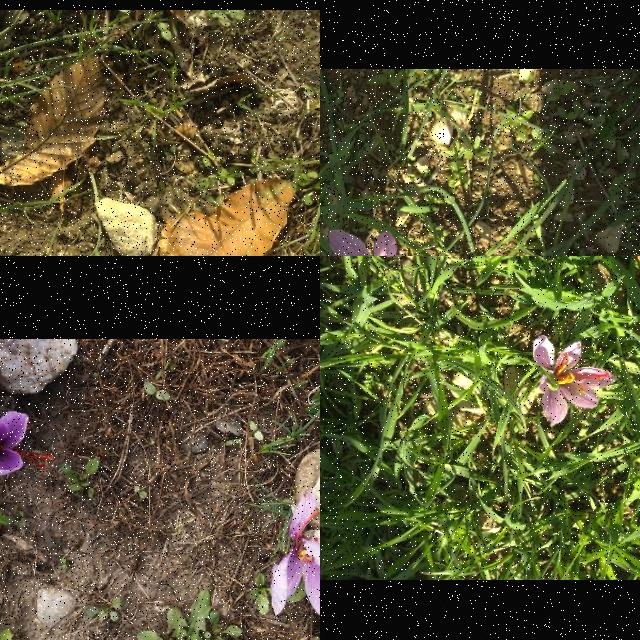flower: (532, 336, 616, 428), (270, 496, 320, 624), (0, 410, 55, 476), (325, 229, 418, 256)
